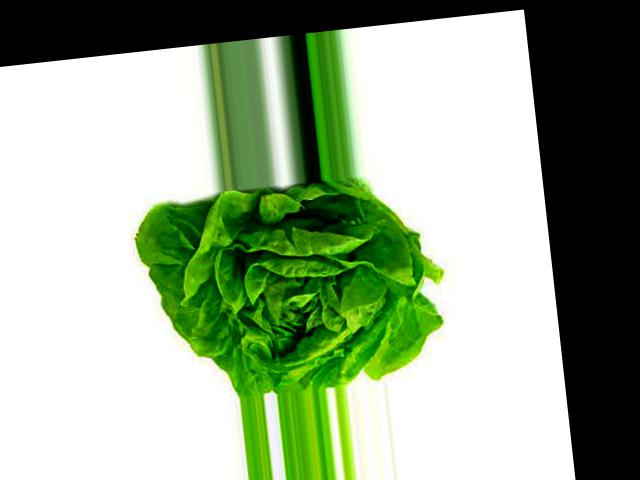lettuce: (234, 205, 410, 331)
